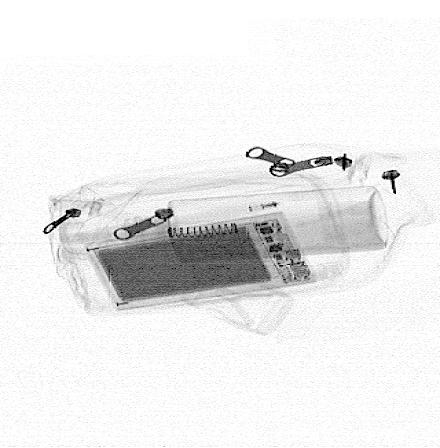Powerbank: (80, 210, 319, 312)
